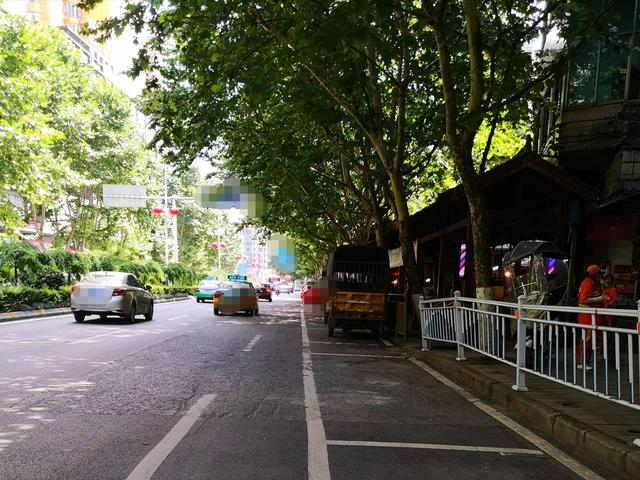slot_nocar: (285, 344, 564, 465)
